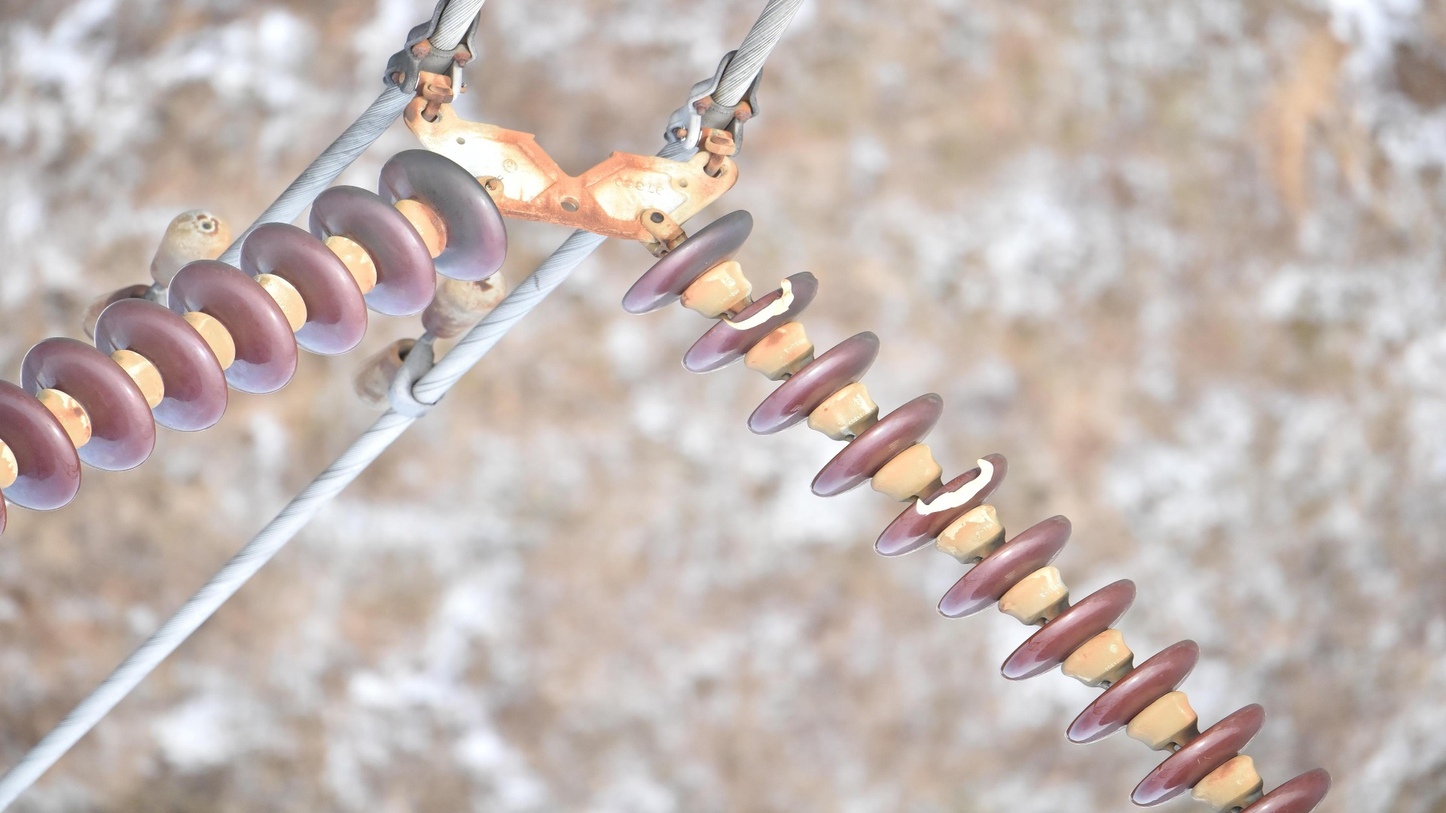insulator: (612, 206, 1339, 813), (1, 145, 515, 545)
insulator_breakage: (911, 454, 997, 518), (719, 275, 799, 333)
